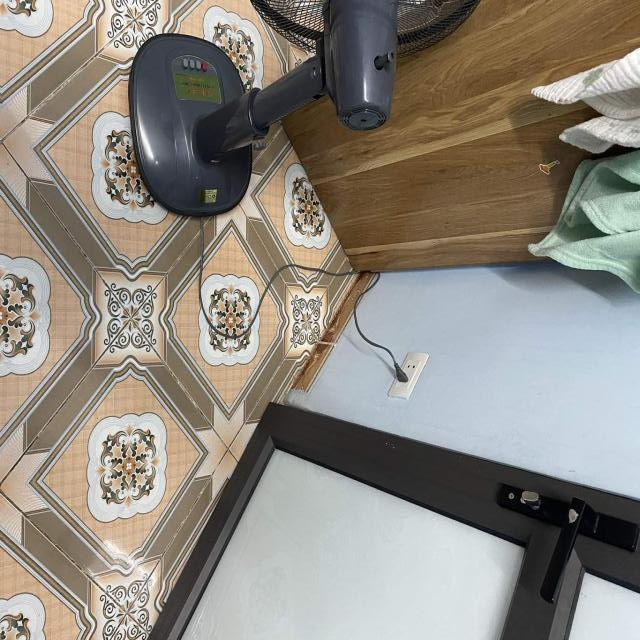outlet: (388, 351, 429, 400)
